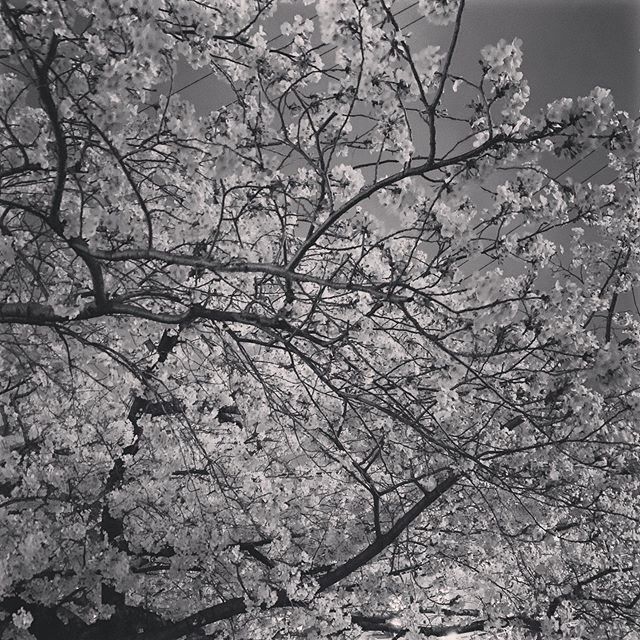vegetation: (1, 2, 637, 640)
